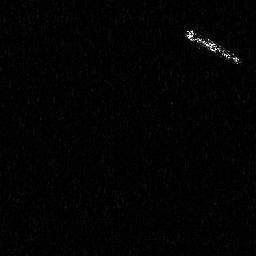ship: (182, 26, 243, 67)
